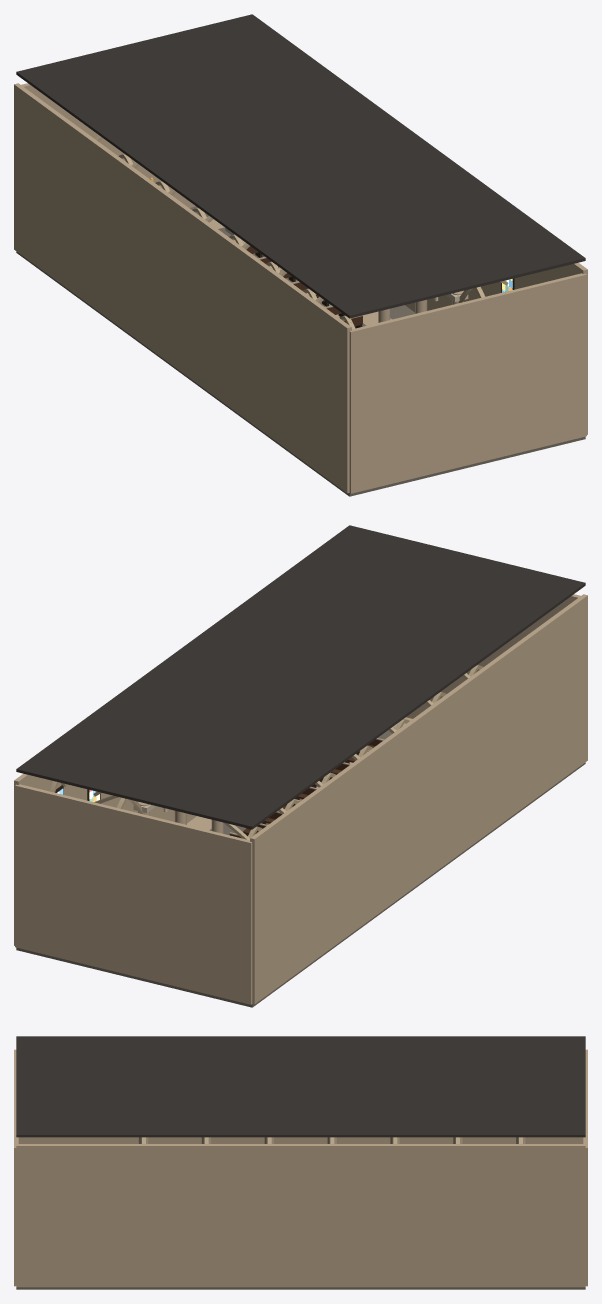
Rendered from reims.glb.
3 renders of one model, top to bottom at view 1: azimuth 30°, elevation 25°; view 2: azimuth 150°, elevation 25°; view 3: azimuth 270°, elevation 25°, orthographic. The views are drawn at different scales.
Size of the model in its own units: 18.35 by 13.18 by 44.35.
